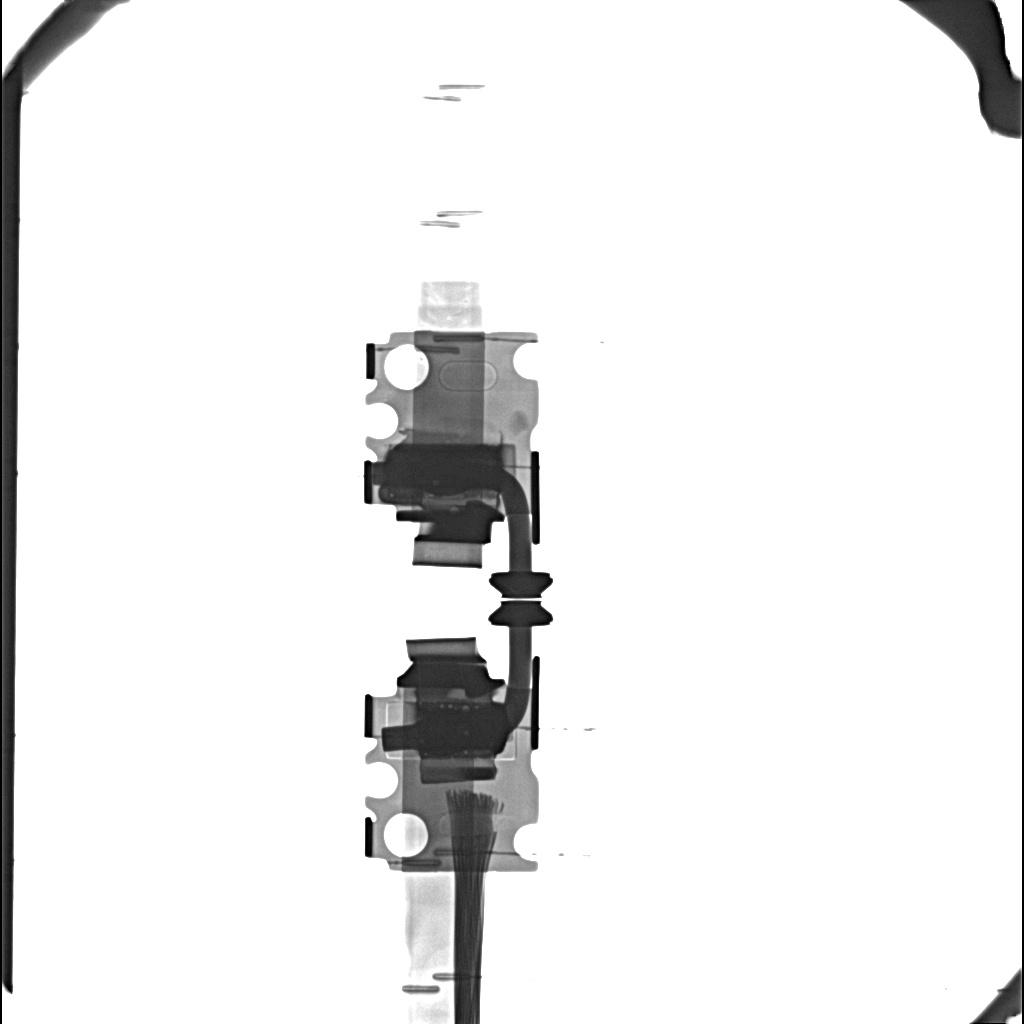气孔: (419, 758, 498, 784)
气泡: (447, 688, 466, 698)
水纹: (385, 443, 500, 490), (418, 705, 507, 758)
